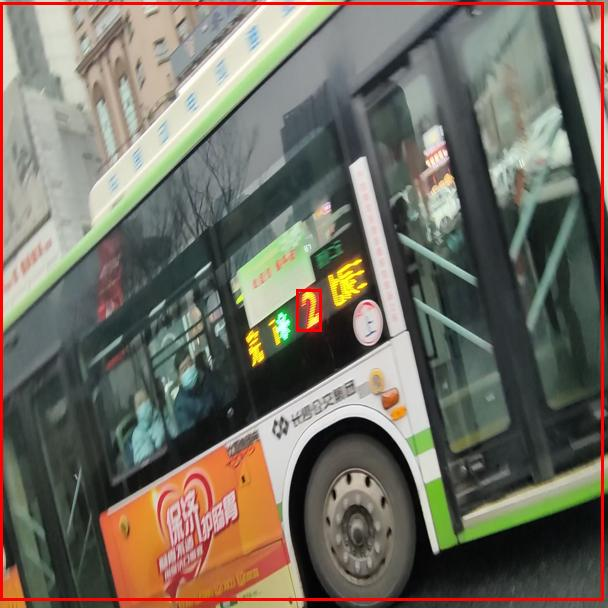bus: (0, 2, 603, 600)
screen: (296, 289, 321, 331)
